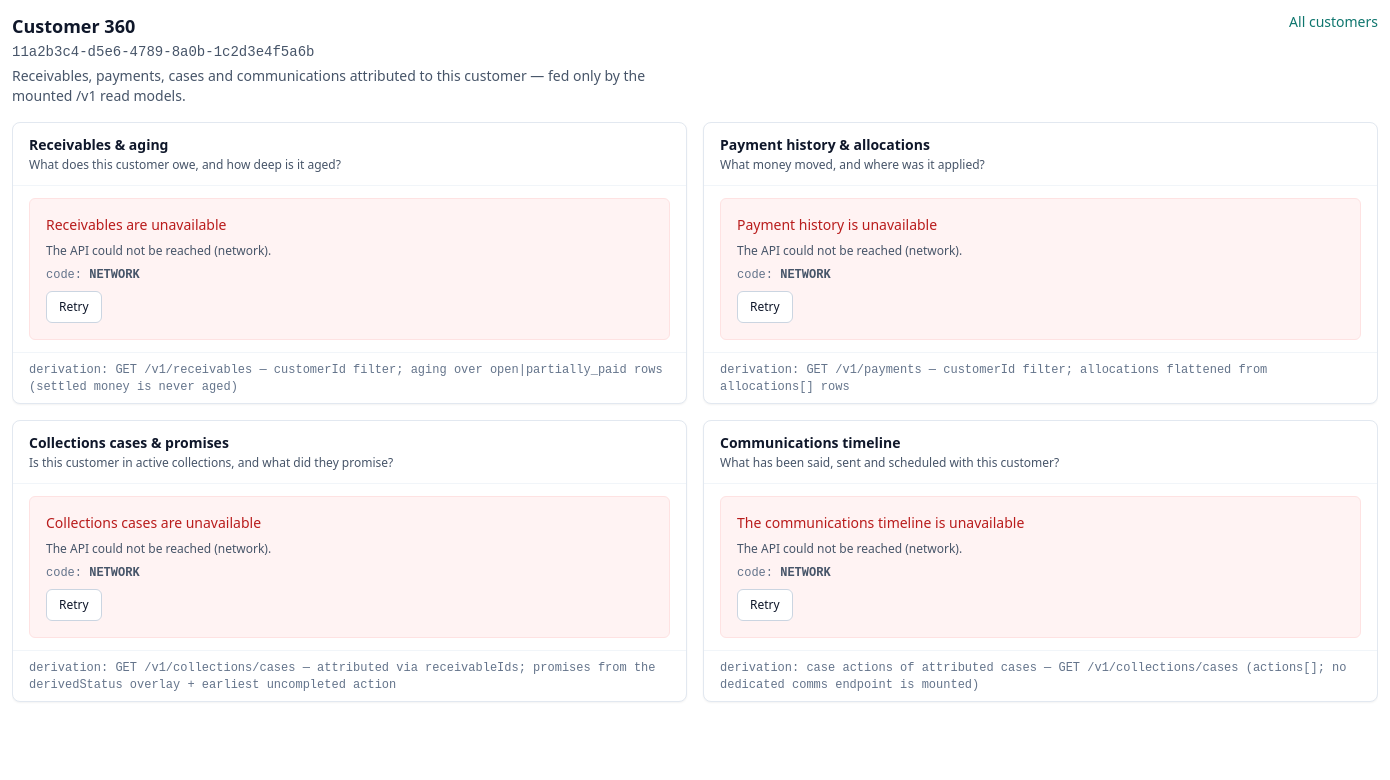
Test: Customer 360 against an unreachable backend (dead base URL) › recovers every section through the same typed client when Retry succeeds
Click the button "Retry" below "Receivables are unavailable" at (74, 307), box [46,291,102,323]
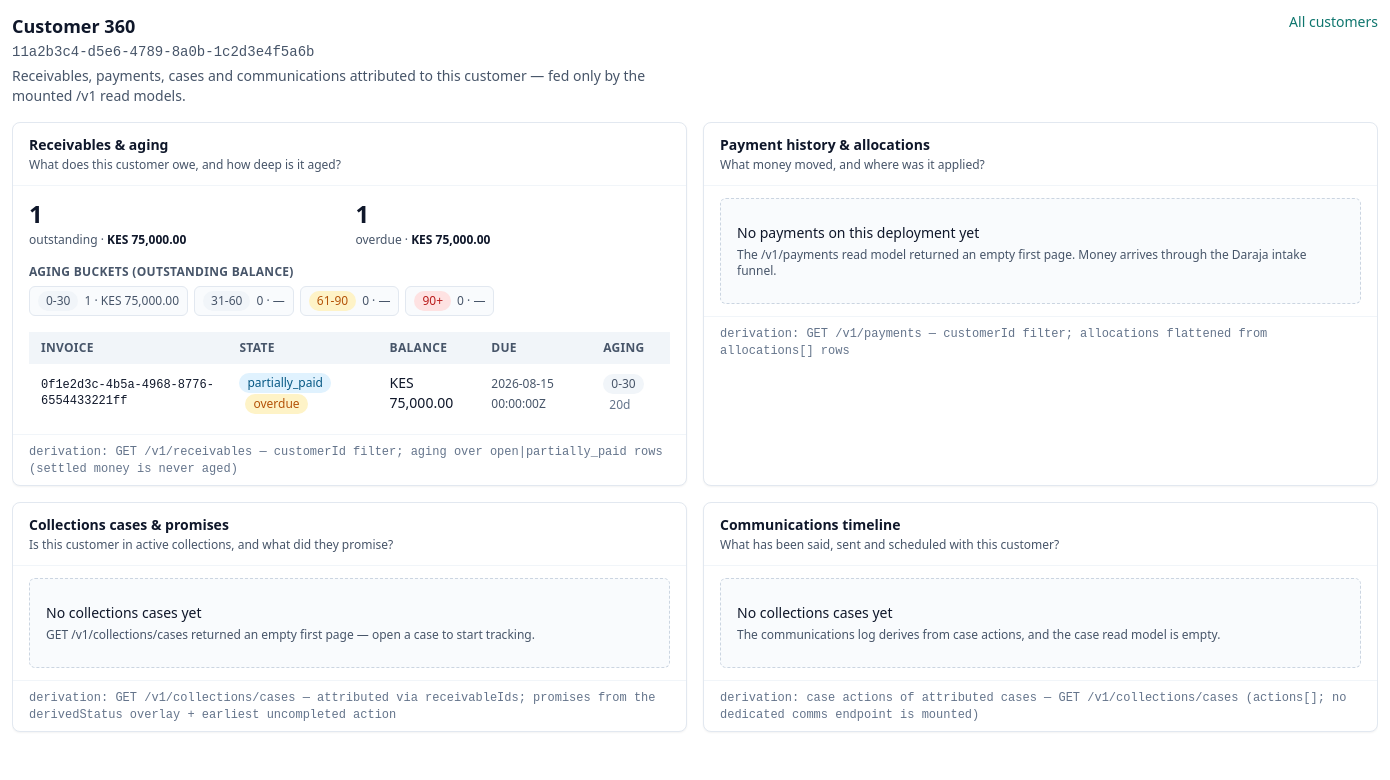
Expected: the number of rows is 2, [29,332,670,364]; [29,364,670,422]
